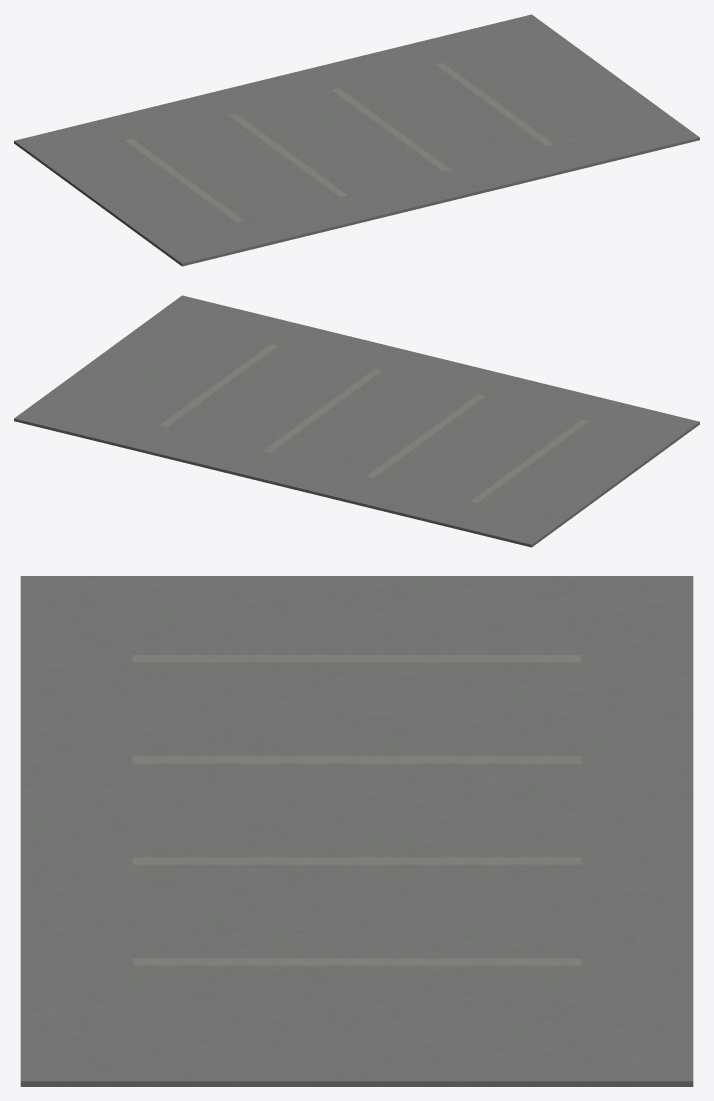
File: q01-asphalt-repair.glb
3 renders of one model, top to bottom at view 1: azimuth 30°, elevation 25°; view 2: azimuth 150°, elevation 25°; view 3: azimuth 270°, elevation 25°, orthographic. The views are drawn at different scales.
Bounding box in the file's own units: 2.4 × 0.0155 × 1.35.
Materials: 2 (2 with a texture image).
